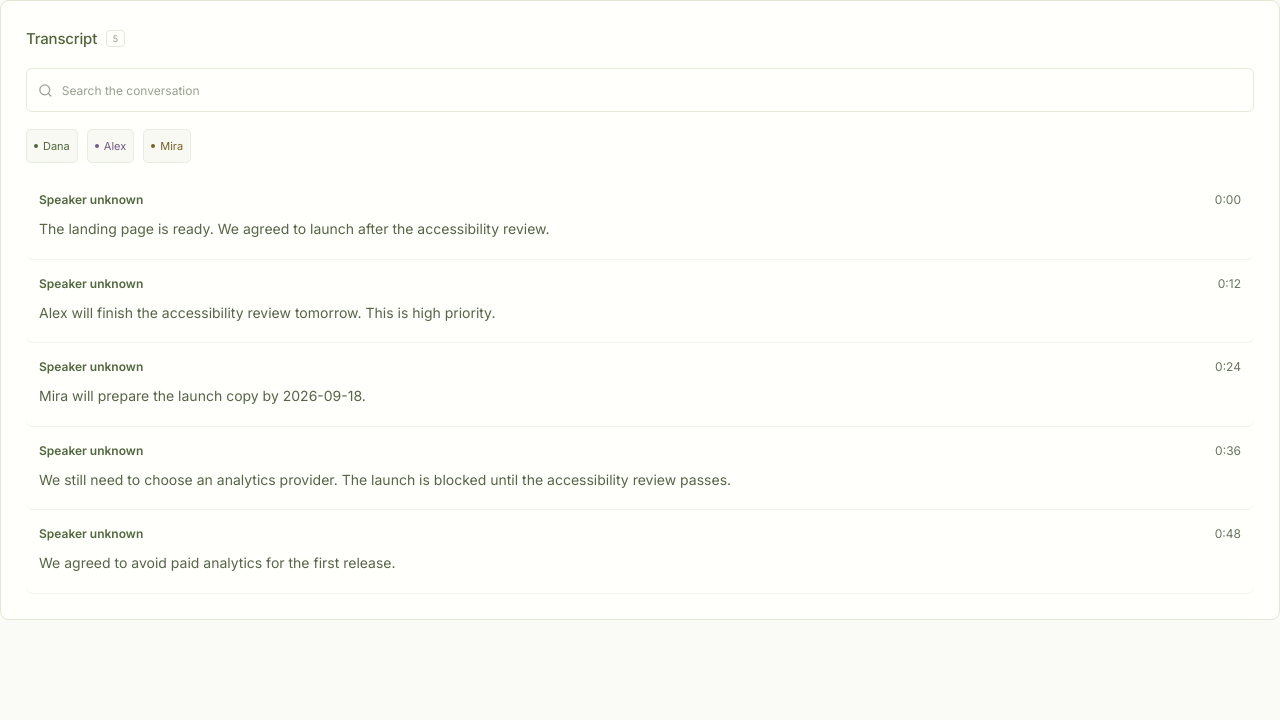
Test: a filter that matches nothing says so rather than showing an empty panel
Click the button "Dana" at (52, 146), box x1=26 y1=129 x2=78 y2=163
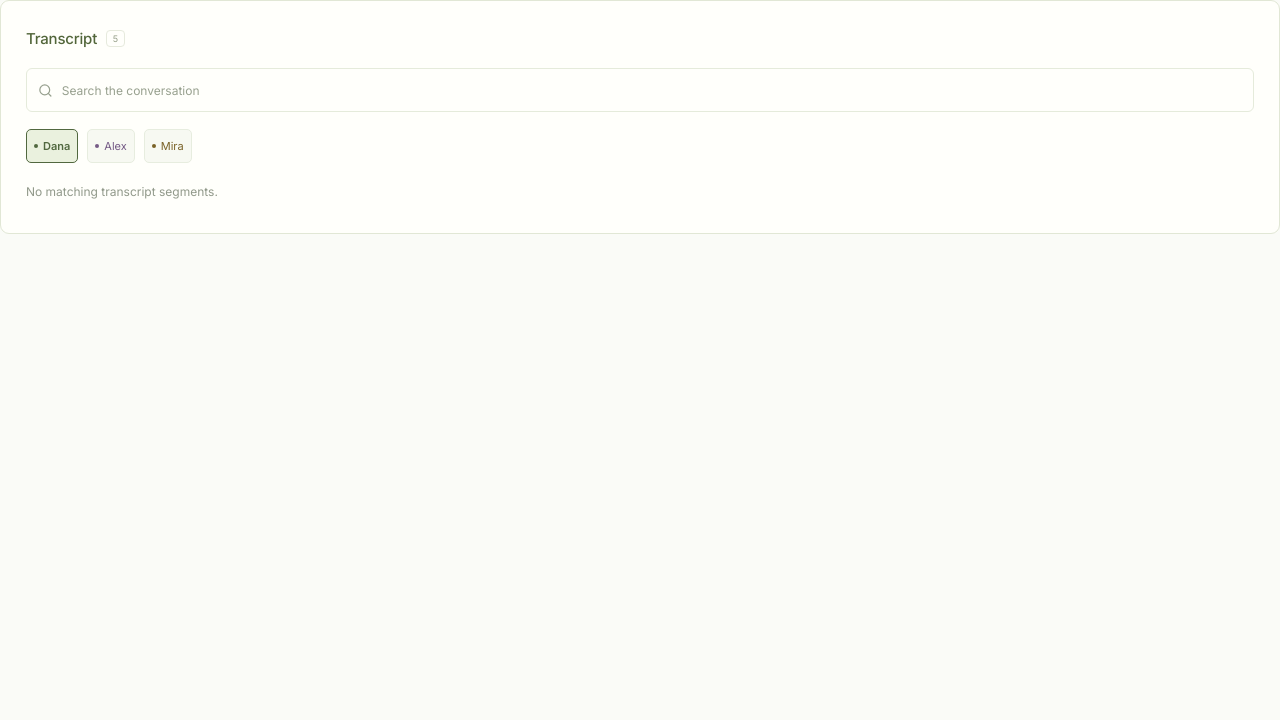
Expected: the text "No matching transcript segments." is shown, x1=26 y1=184 x2=218 y2=199
